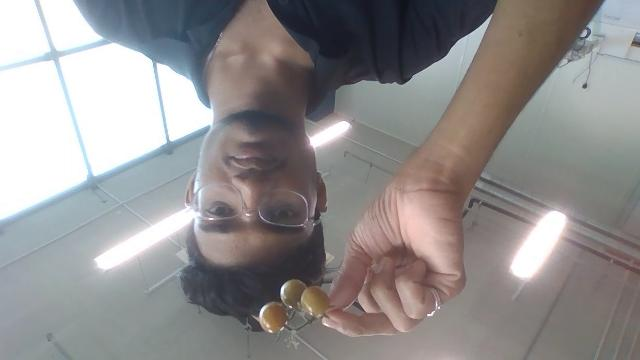Fully Grown: (300, 285, 331, 319), (258, 302, 288, 335), (280, 279, 306, 310)
